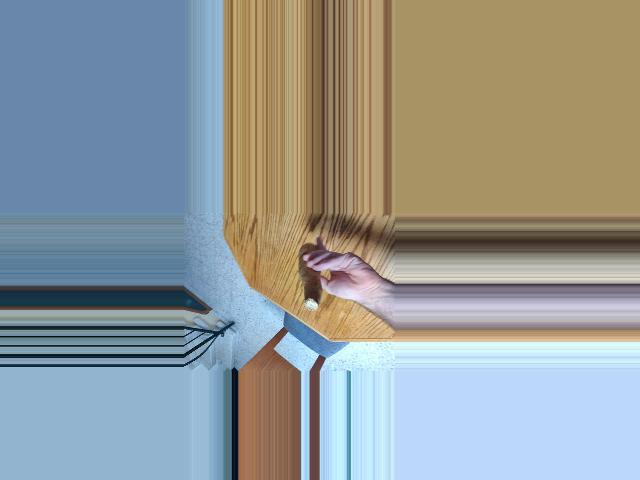sweet_potato: (295, 249, 326, 305)
